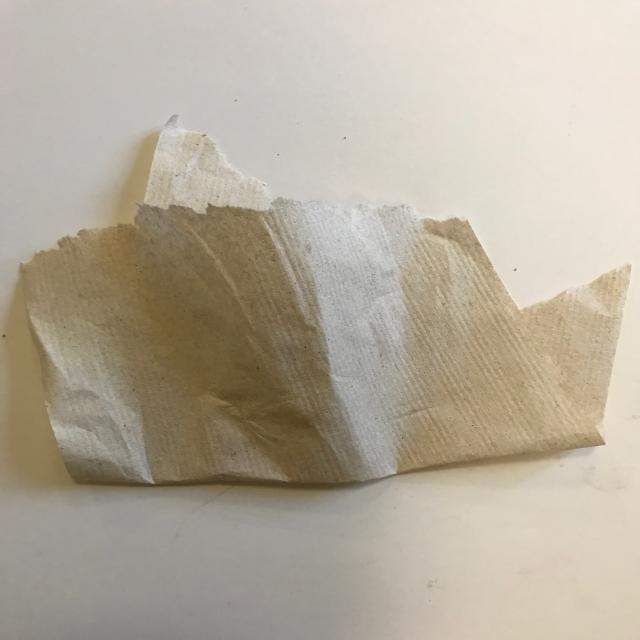trash: (18, 113, 632, 487)
